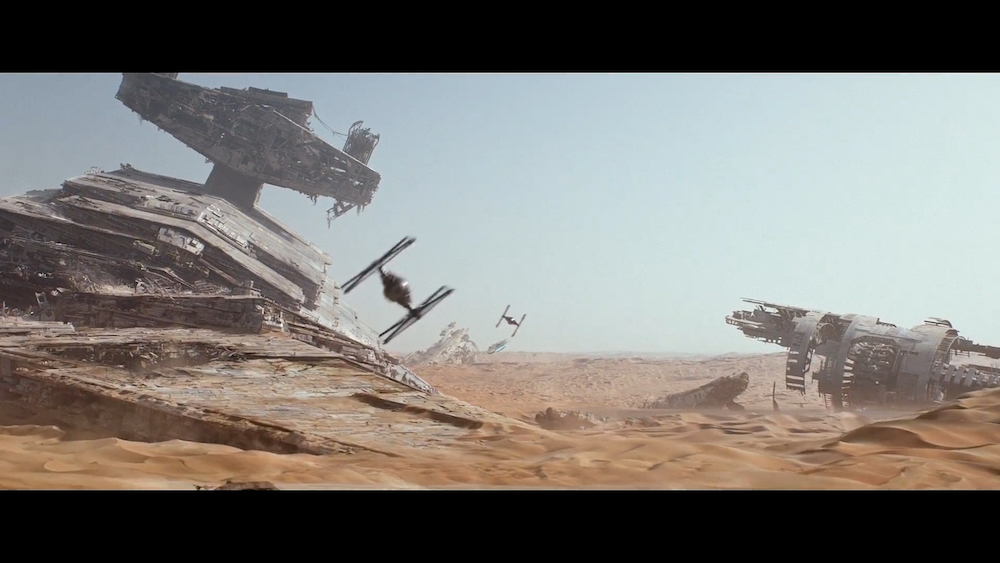Millennium Falcon: (488, 340, 511, 355)
Tie Fighter: (341, 237, 456, 343), (496, 306, 527, 338)
